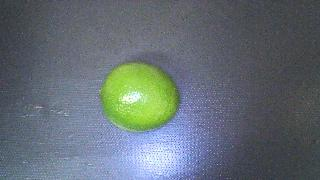EXPORTACION: (100, 62, 180, 132)
